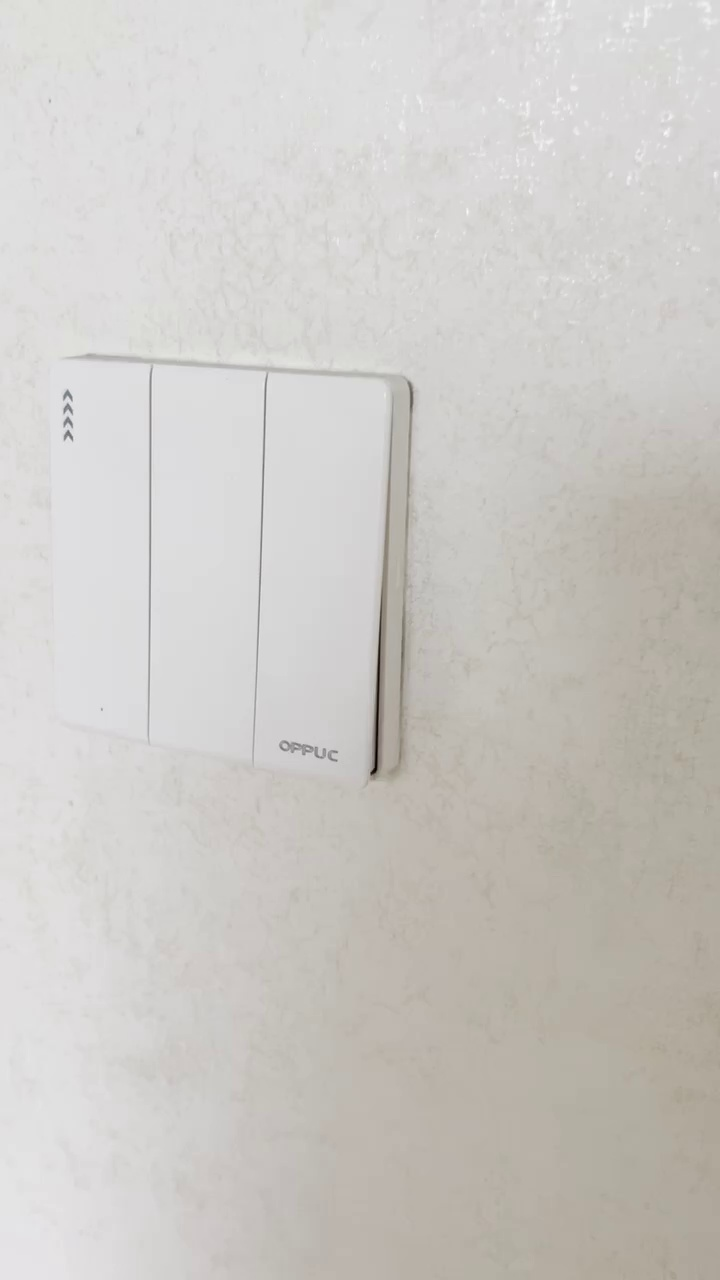button1: (262, 372, 382, 770), (149, 367, 260, 756), (48, 360, 147, 726)
